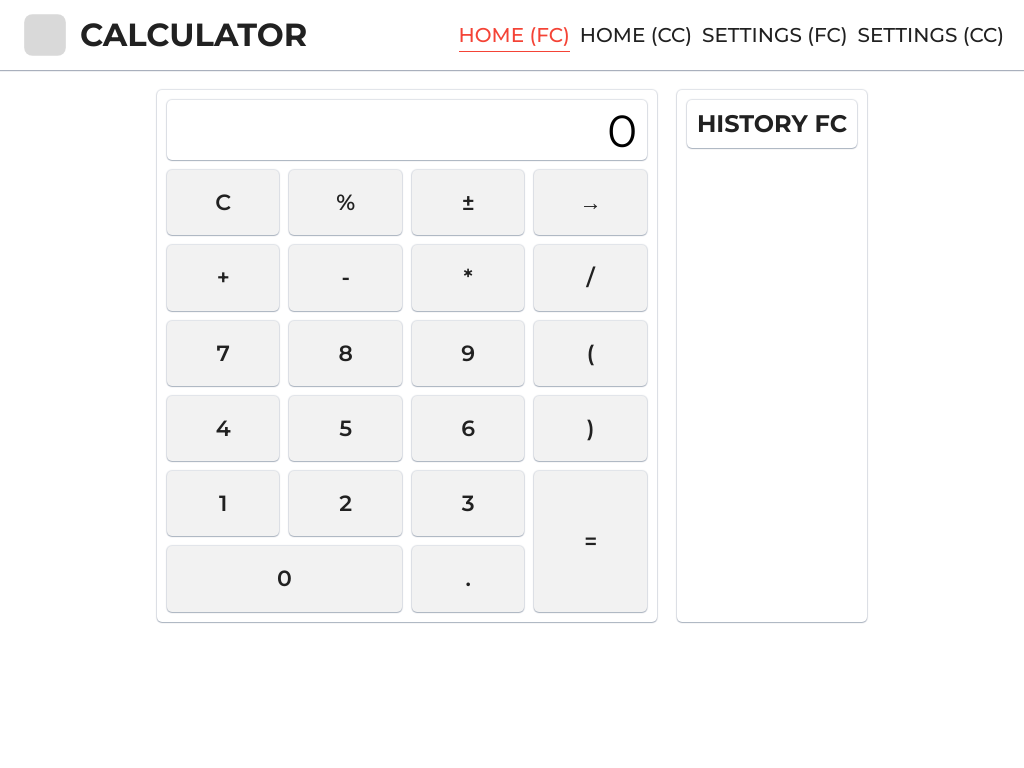
Test case: Calculator App › Should check the work of addition
The width and height of the screenshot is (1024, 768).
Expected: the field holds "0", [167,100,647,160]
Click the button "1" at (224, 504), box [167,471,280,536]
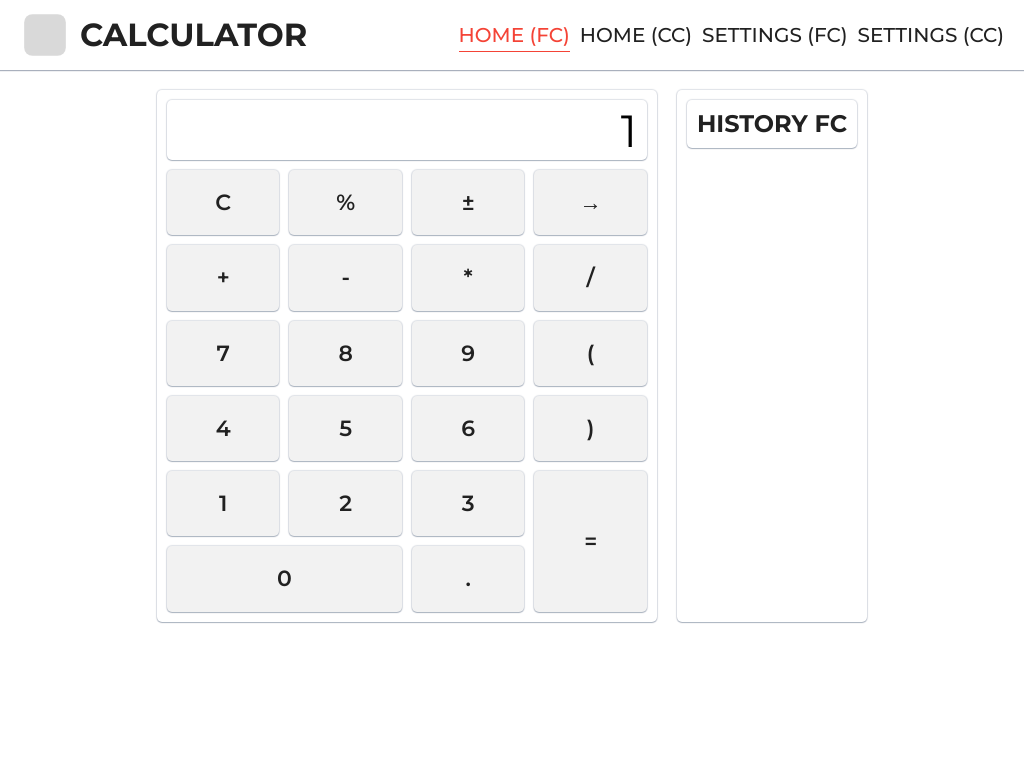
Click the button "+" at (224, 278), box [167,245,280,310]
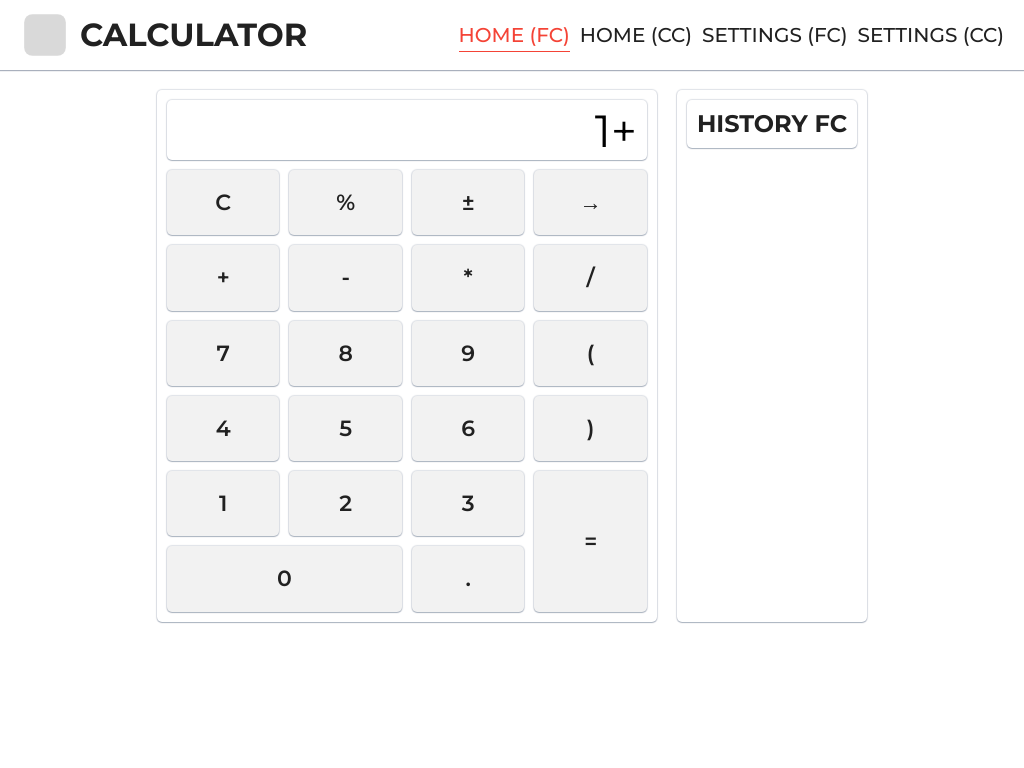
Click the button "2" at (346, 504), box [289,471,402,536]
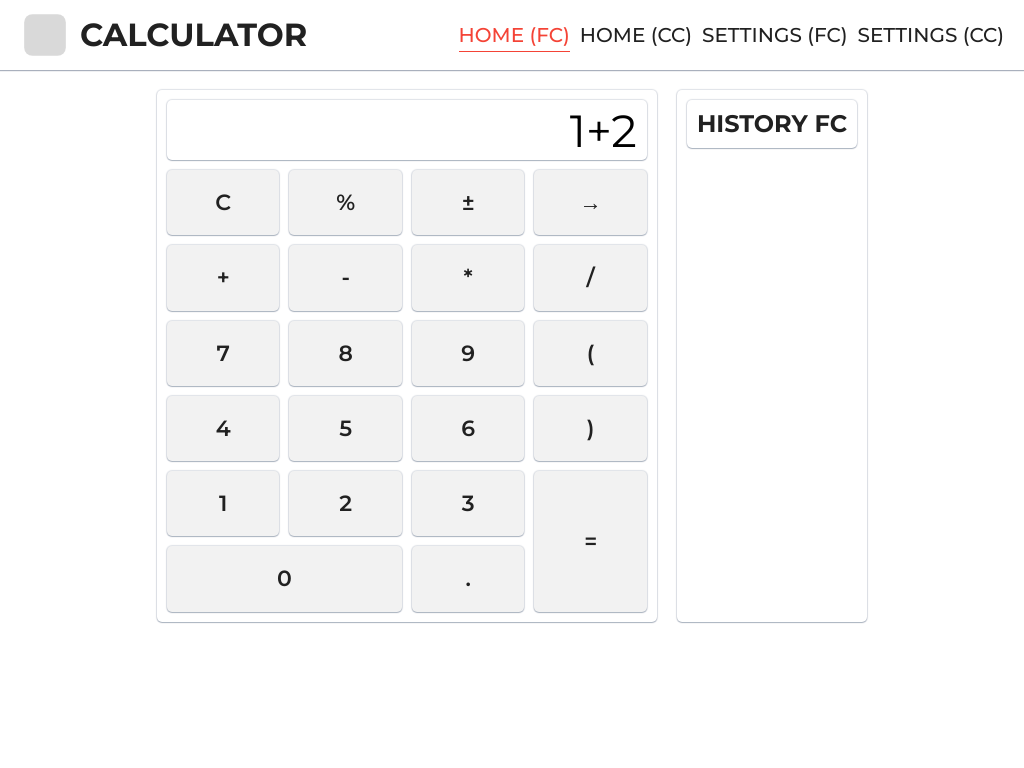
Click the button "=" at (591, 542), box [534,471,647,612]
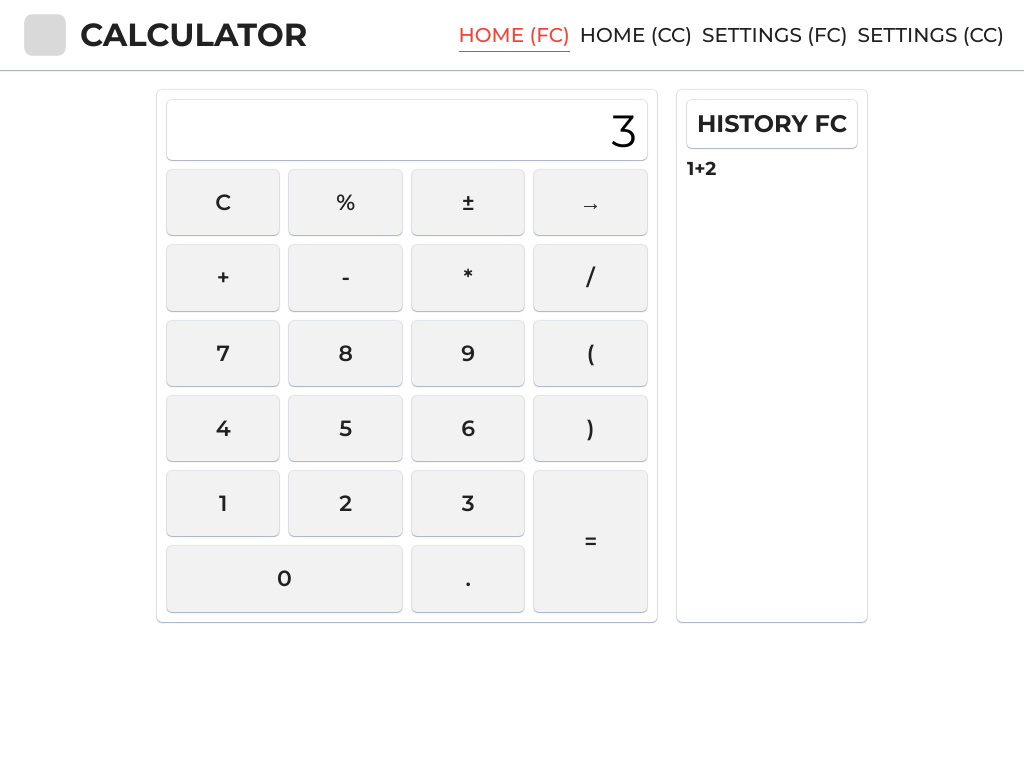
Result: the field holds "3" at [167,100,647,160]
